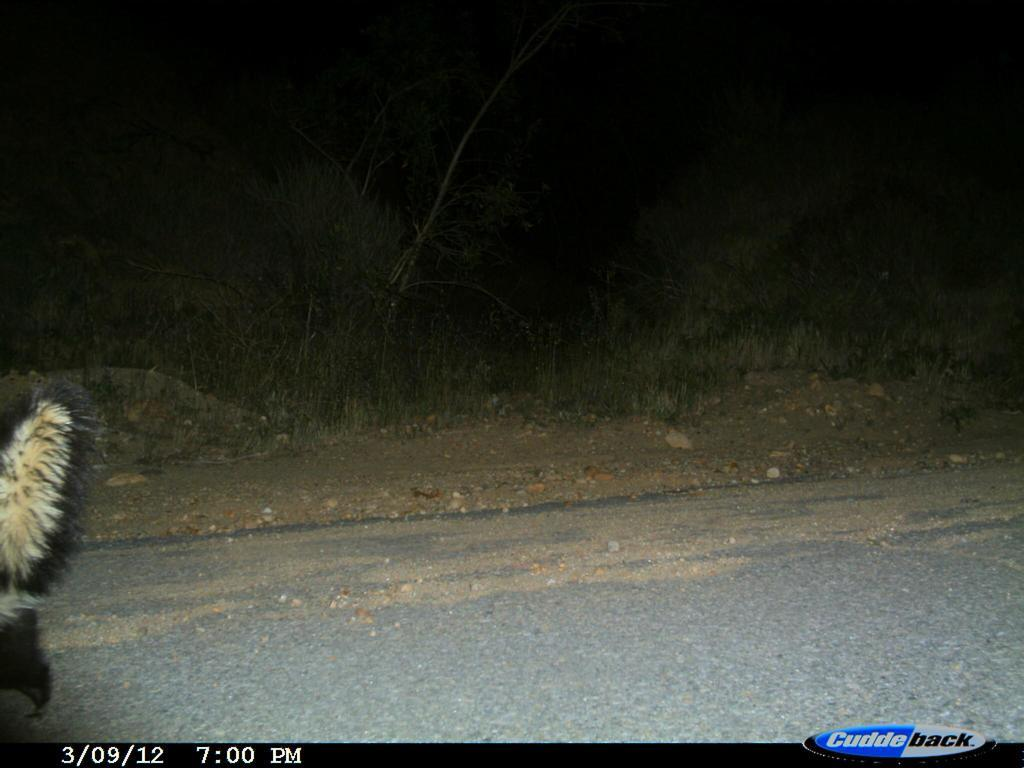skunk: (3, 381, 91, 733)
